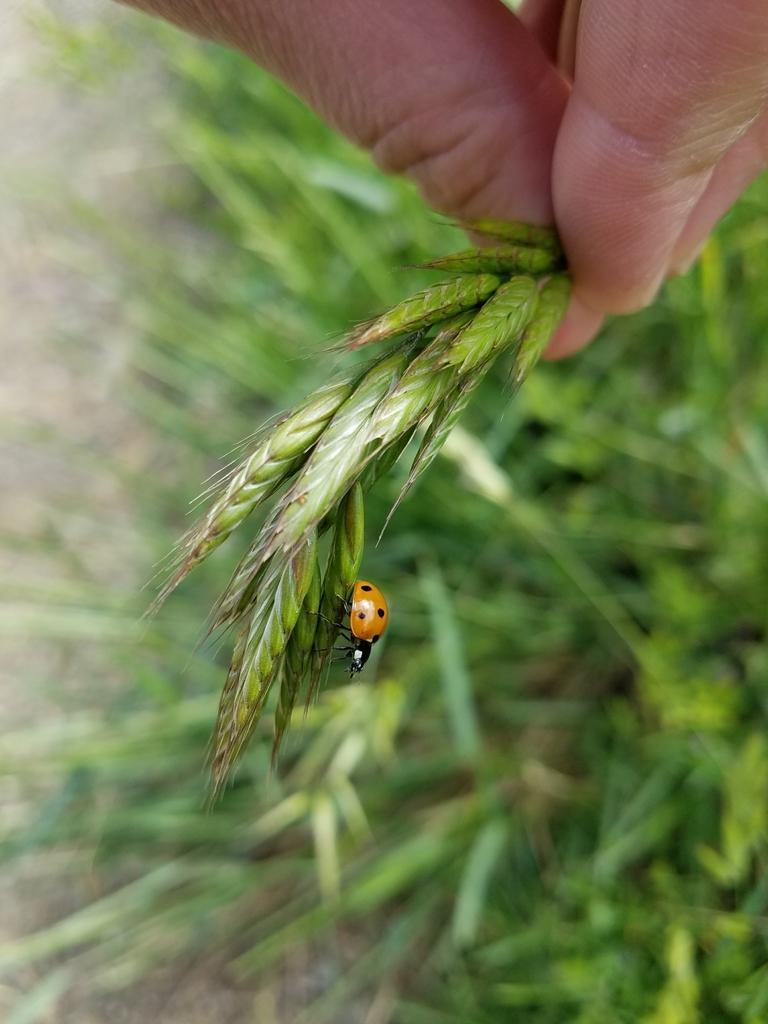ladybug: (329, 574, 396, 684)
